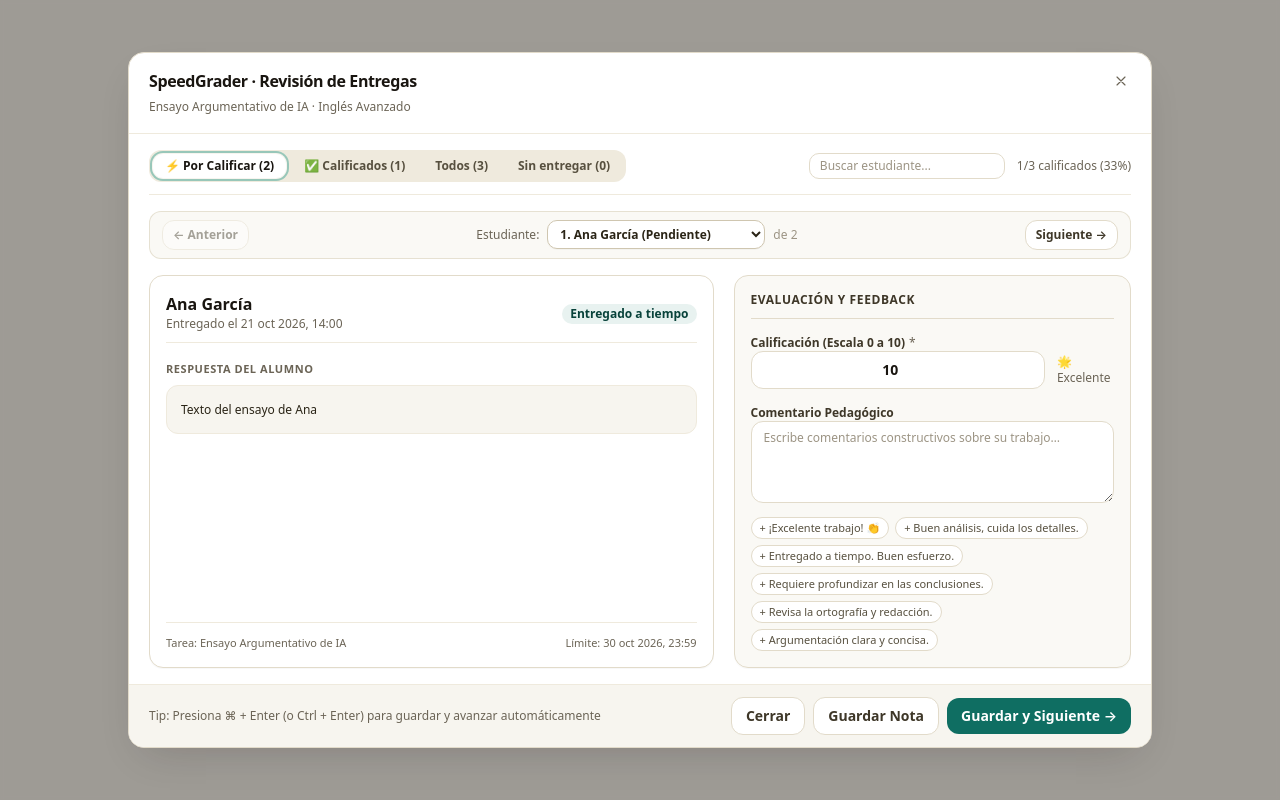
Scenario: TeacherSpeedGrader › allows switching filter tab to view all students
What coordinates should you click on to do the following:
click the button "Todos (3)"
I would click on:
 (462, 166)
Its box is left=423, top=154, right=500, bottom=178.
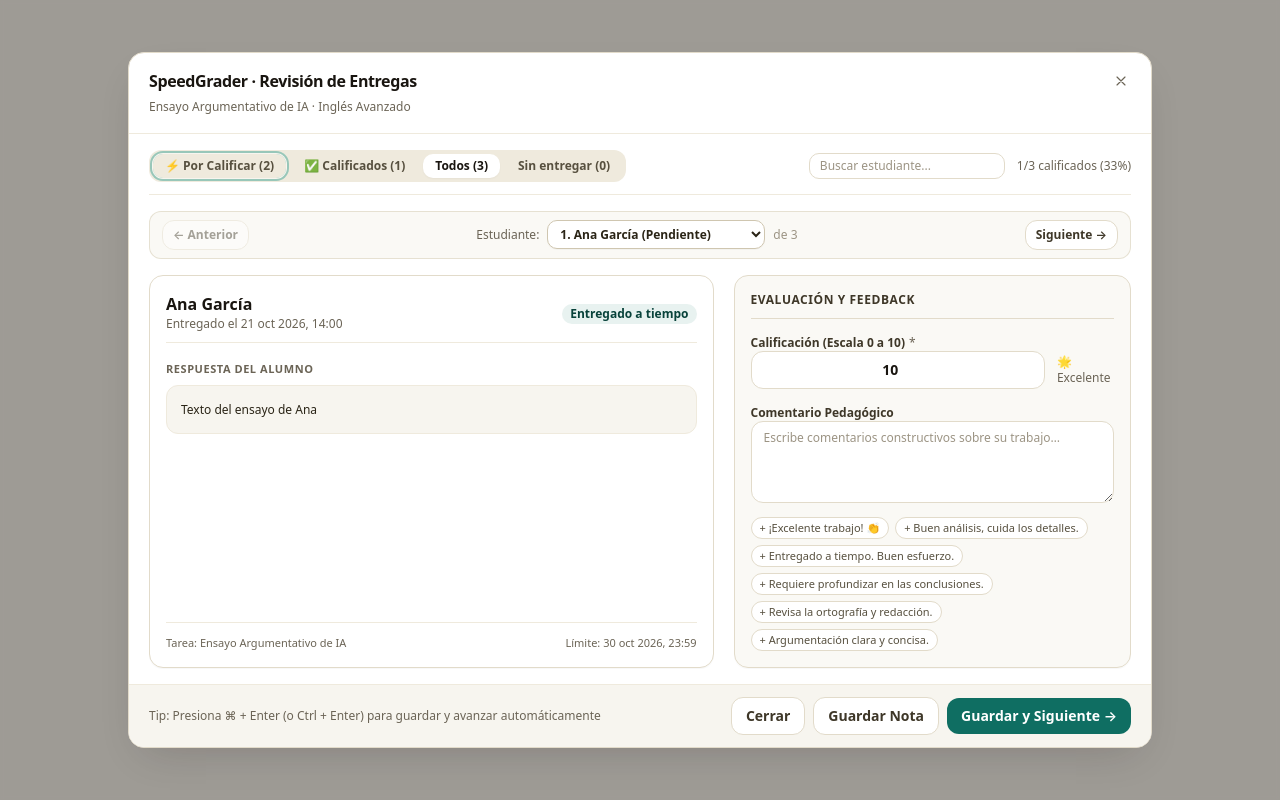
expect the text "de 3" is shown: met, box left=773, top=227, right=798, bottom=243
